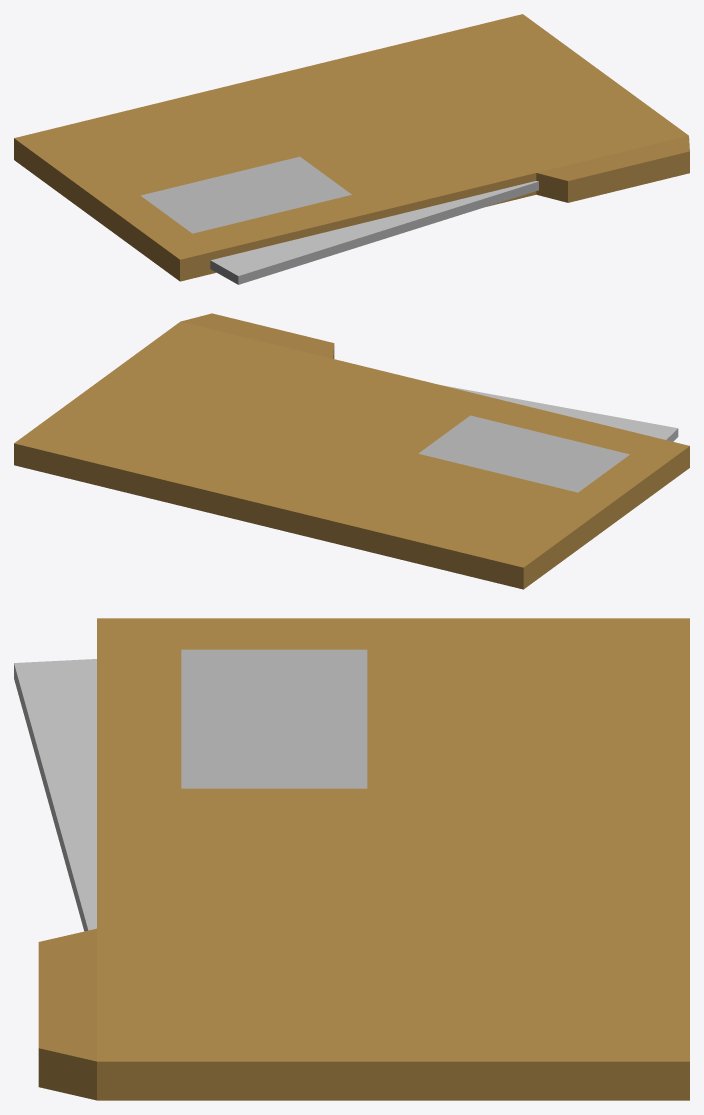
Rendered from SO_Papers_04.fbx.
The picture shows the model from 3 angles, top to bottom: view 1: azimuth 30°, elevation 25°; view 2: azimuth 150°, elevation 25°; view 3: azimuth 270°, elevation 25°; orthographic projection. The views are drawn at different scales.
Parts seen in each view (by area): view 1: SO_Papers_04; view 2: SO_Papers_04; view 3: SO_Papers_04.
Part boxes in pixels (x1=…): SO_Papers_04: x1=14, y1=14, x2=689, y2=284; SO_Papers_04: x1=14, y1=313, x2=689, y2=589; SO_Papers_04: x1=14, y1=618, x2=689, y2=1100.
Bounding box in the file's own units: 0.9186 × 0.0377 × 0.5922.
